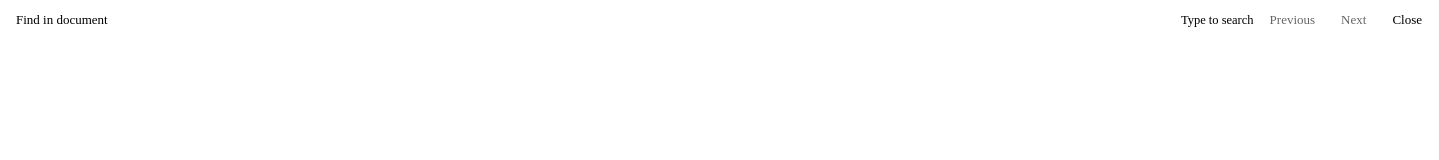
find in document › starts again from the first match when the query changes
Type "a" into the search field at (591, 20), box top-left (8, 6), bottom-right (1175, 34)
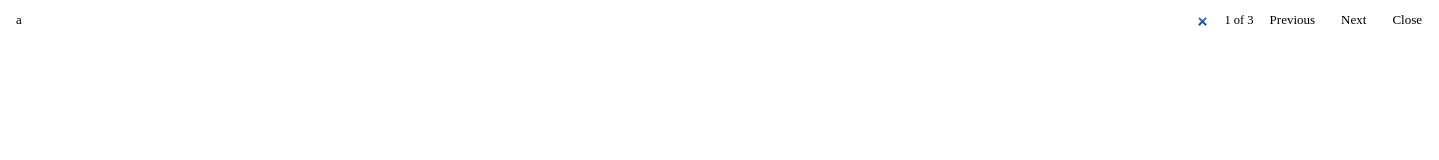
Click the button with aria-label "Next match" at (1354, 20), box top-left (1331, 6), bottom-right (1376, 34)
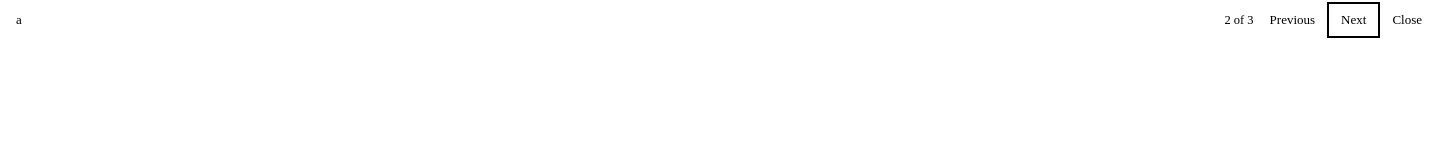
expect the message reads "2 of 3": met, box top-left (1224, 13), bottom-right (1254, 27)
Type "b" into the search field at (613, 20), box top-left (8, 6), bottom-right (1218, 34)
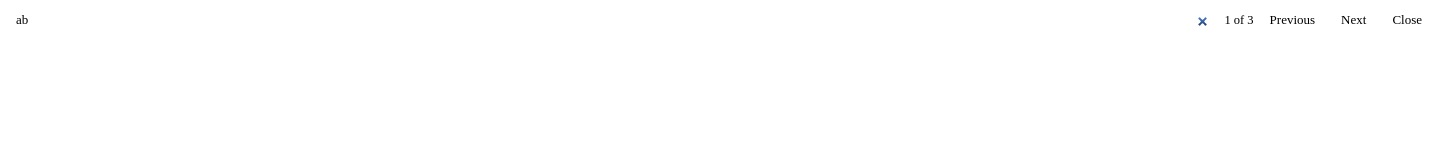
expect the message reads "1 of 3": met, box top-left (1224, 13), bottom-right (1254, 27)
